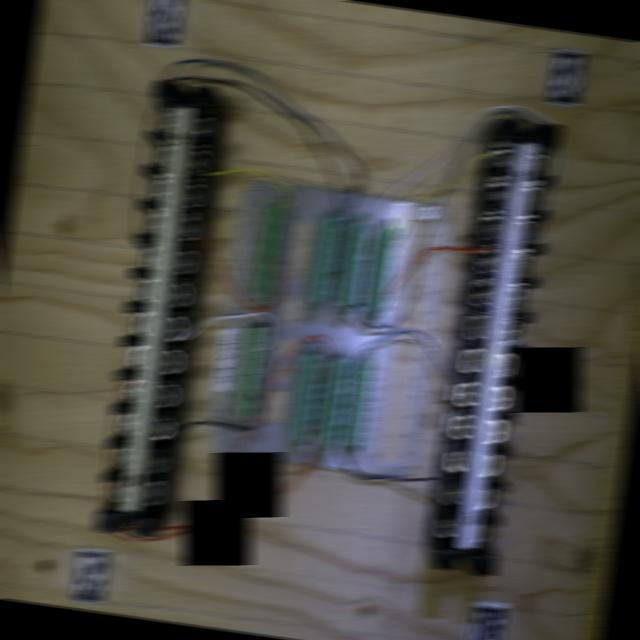Flathead_Block: (94, 80, 218, 538)
Phillips_Block: (432, 117, 562, 575)
Terminal_1: (233, 325, 270, 419), (251, 203, 287, 297)
Terminal_2: (288, 352, 324, 441), (315, 357, 350, 446), (336, 219, 371, 308), (308, 214, 343, 303), (364, 225, 398, 313)
